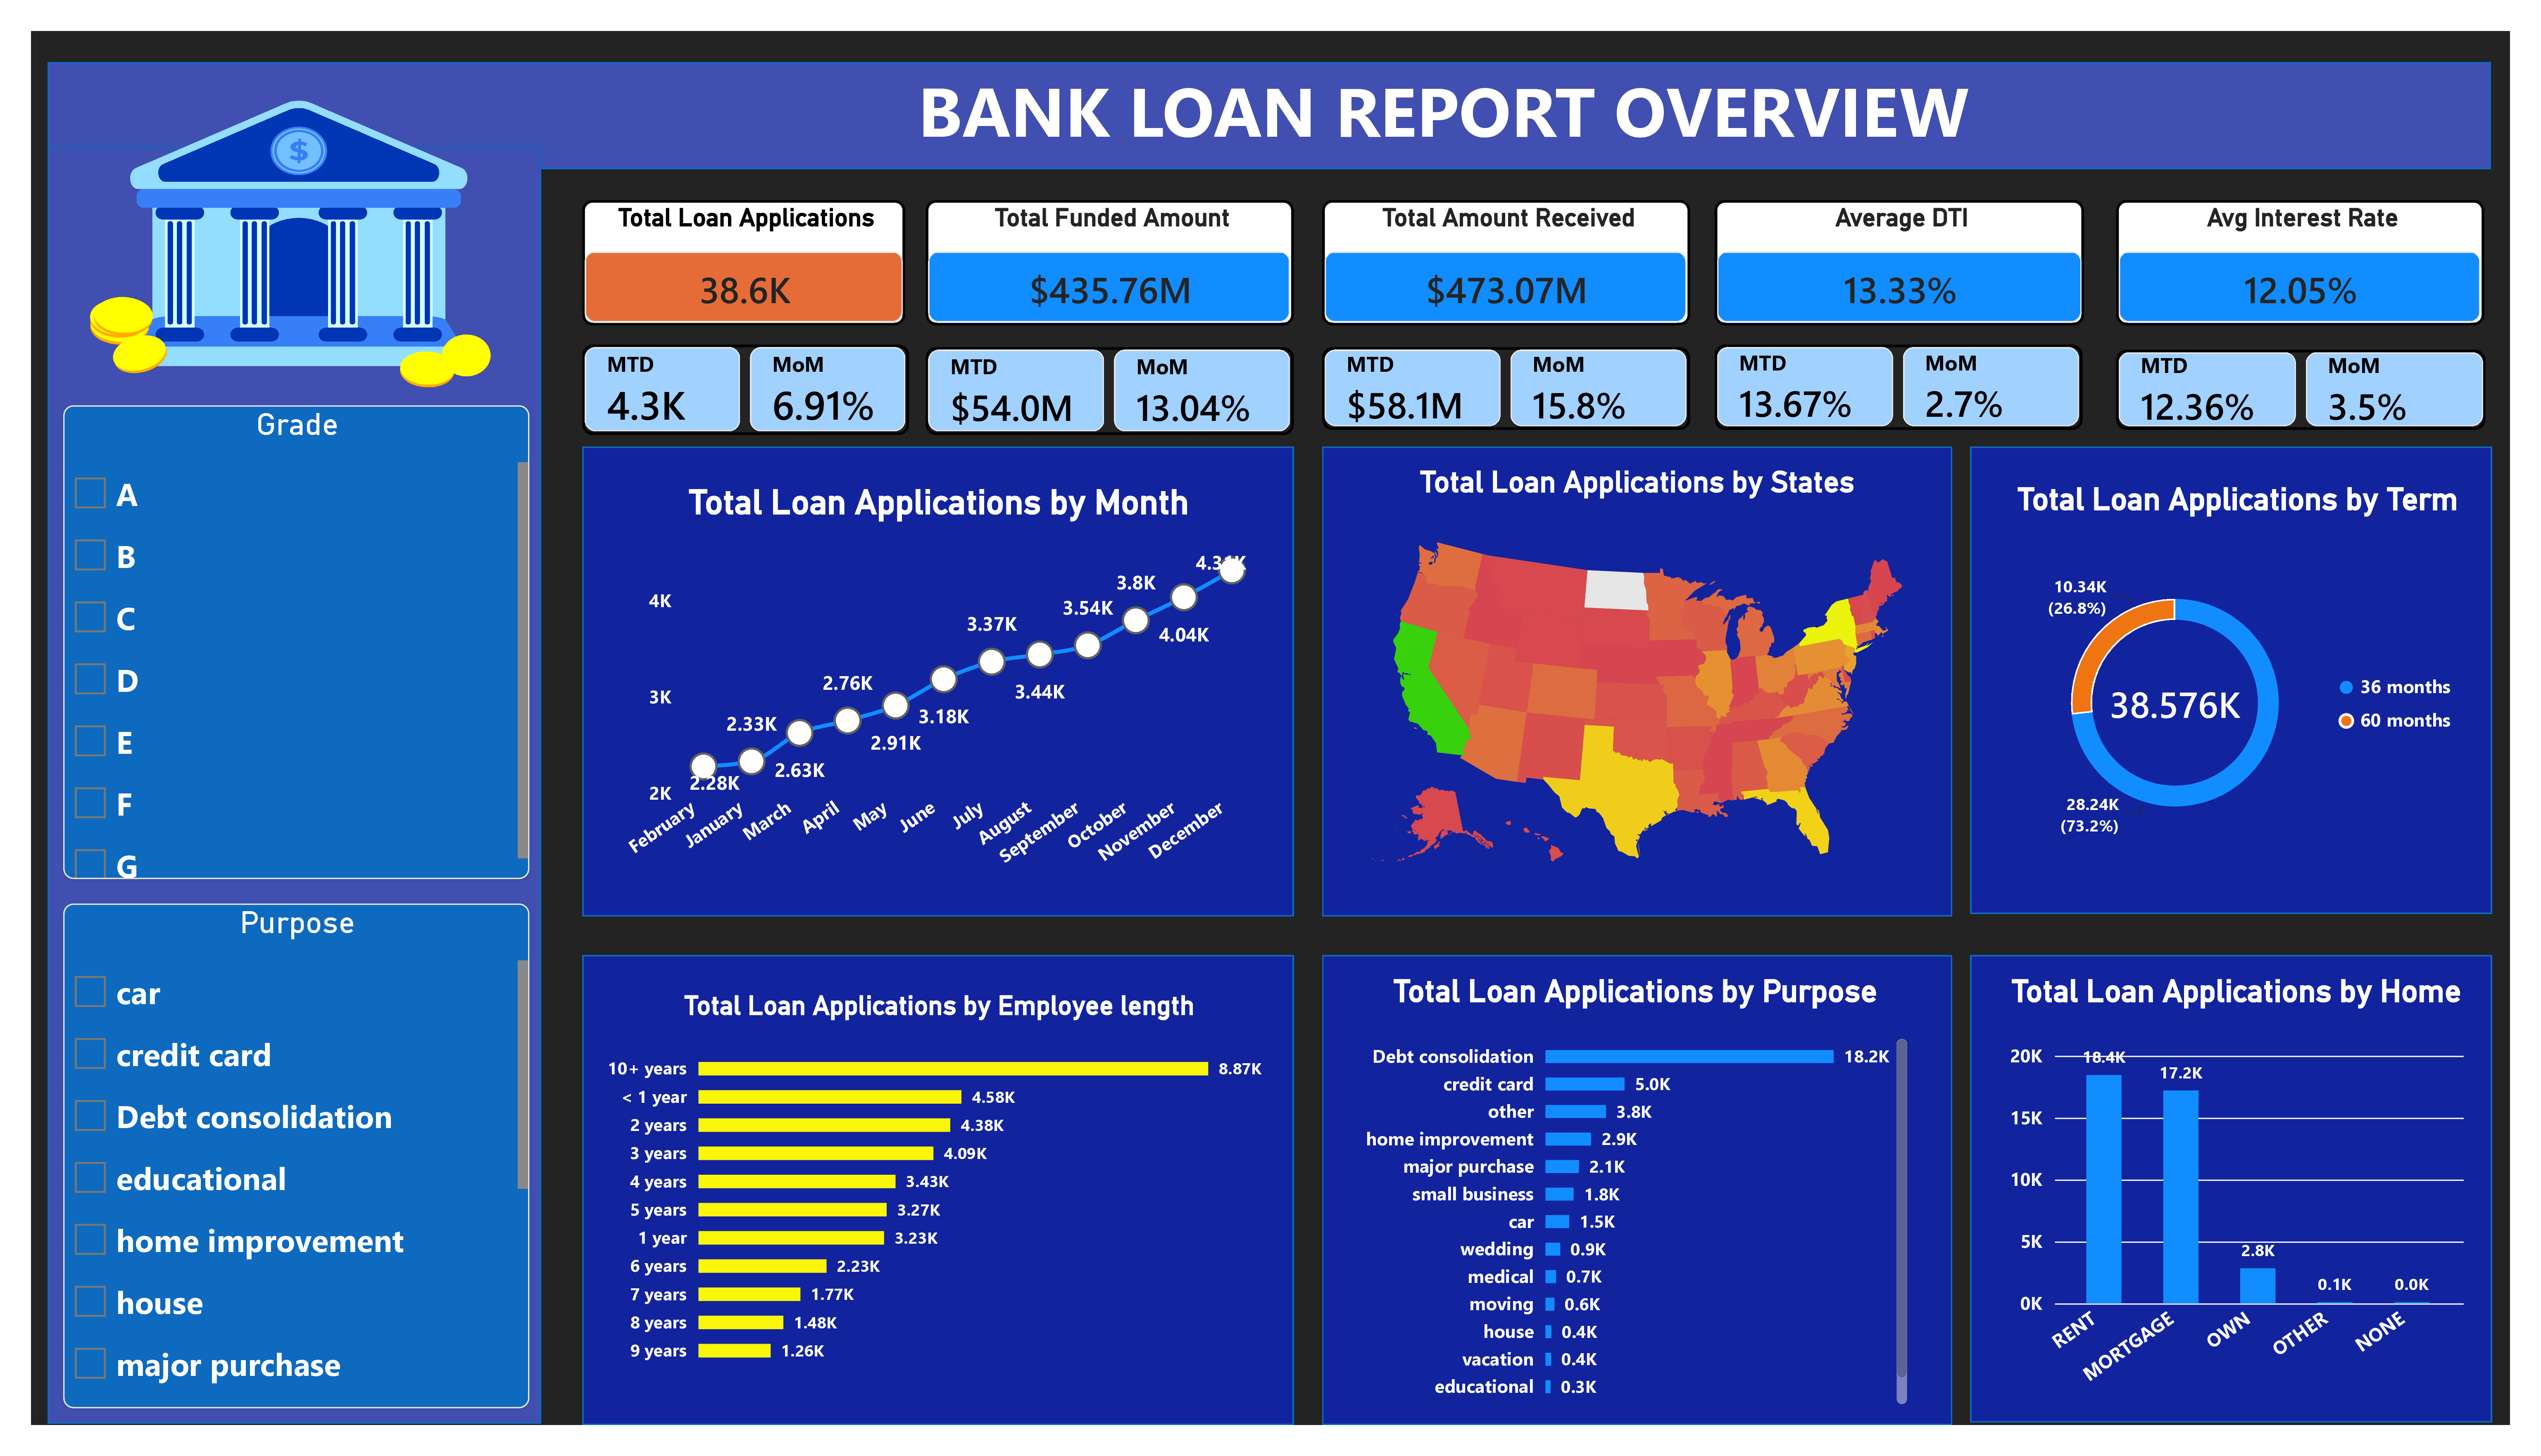

Layout of this report page (visuals, bound fields, positions):
{"tool":"powerbi","page":{"name":"Overview Dashboard","canvas":[1920,1080],"ordinal":1},"visuals":[{"type":"cardVisual","title":"Total Loan Applications","fields":{"Data":["CountNonNull(financial_loan_data.id)"]},"box":[427.2,131.1,250,97.4],"z":0,"group":"g1"},{"type":"shape","box":[1502,715.7,403.9,362.7],"z":0},{"type":"cardVisual","fields":{"Data":["financial_loan_data.MTD Loan Applications","financial_loan_data.MoM Change"]},"box":[427.2,243.5,252.9,69.3],"z":1000,"group":"g1"},{"type":"shape","box":[1000,715.7,488.2,364.7],"z":1000},{"type":"cardVisual","fields":{"Data":["financial_loan_data.MTD Funded Amount","financial_loan_data.MoM Funded Amount %"]},"box":[693.2,245.4,284.8,67.4],"z":2000,"group":"g1"},{"type":"shape","box":[427.5,715.7,551,364.7],"z":2000},{"type":"cardVisual","fields":{"Data":["financial_loan_data.MTD Received Amount","financial_loan_data.MoM Received Amount %"]},"box":[1000.5,245.4,284.8,63.7],"z":3000,"group":"g1"},{"type":"shape","box":[427.5,321.6,551,364.7],"z":3000},{"type":"cardVisual","fields":{"Data":["financial_loan_data.MTD Average DTI","financial_loan_data.MoM DTI Change"]},"box":[1304,243.5,284.8,65.6],"z":4000,"group":"g1"},{"type":"shape","box":[1000,321.6,488.2,364.7],"z":4000},{"type":"shape","box":[13.1,24.4,1892.3,82.4],"z":5000},{"type":"cardVisual","fields":{"Data":["financial_loan_data.MTD Average Interest Rate","financial_loan_data.MoM Interest Rate Change"]},"box":[1615,247.3,286.7,61.8],"z":5000,"group":"g1"},{"type":"shape","box":[12.7,90.5,381.8,988.1],"z":6000},{"type":"cardVisual","title":"Average DTI","fields":{"Data":["Avg(financial_loan_data.dti)"]},"box":[1304,131.1,286.7,97.4],"z":6000,"group":"g1"},{"type":"group","id":"g1","title":"Group 1","box":[427.2,131.1,1474.5,181.7],"z":7000},{"type":"cardVisual","title":"Total Amount Received","fields":{"Data":["Sum(financial_loan_data.total_payment)"]},"box":[1000.5,131.1,284.8,97.4],"z":7000,"group":"g1"},{"type":"cardVisual","title":"Total Funded Amount","fields":{"Data":["Sum(financial_loan_data.loan_amount)"]},"box":[693.2,131.1,284.8,97.4],"z":8000,"group":"g1"},{"type":"cardVisual","title":"Avg Interest Rate","fields":{"Data":["Avg(financial_loan_data.int_rate)"]},"box":[1615,131.1,284.8,97.4],"z":9000,"group":"g1"},{"type":"lineChart","title":"Total Loan Applications by Month ","fields":{"Category":["financial_loan_data.Month Number"],"Y":["Count(financial_loan_data.id)"]},"box":[445.1,335.3,515.7,343.1],"z":9000},{"type":"shapeMap","title":"Total Loan Applications by States","fields":{"Category":["financial_loan_data.address_state"],"Value":["Count(financial_loan_data.id)"]},"box":[1000,321.6,488.2,356.9],"z":10000},{"type":"shape","box":[1502,321.6,403.9,362.7],"z":11000},{"type":"donutChart","title":"Total Loan Applications by Term","fields":{"Y":["Count(financial_loan_data.id)"],"Category":["financial_loan_data.term"]},"box":[1517.6,335.3,382.4,329.4],"z":12000},{"type":"clusteredBarChart","title":"Total Loan Applications by Employee length","fields":{"Y":["Count(financial_loan_data.id)"],"Category":["financial_loan_data.emp_length"]},"box":[429.4,729.4,549,323.5],"z":13000},{"type":"clusteredBarChart","title":"Total Loan Applications by Purpose","fields":{"Category":["financial_loan_data.purpose"],"Y":["Count(financial_loan_data.id)"]},"box":[1015.7,715.7,452.9,364.7],"z":14000},{"type":"columnChart","title":"Total Loan Applications by Home","fields":{"Y":["Count(financial_loan_data.id)"],"Category":["financial_loan_data.home_ownership"]},"box":[1515.7,715.7,384.3,364.7],"z":15000},{"type":"textbox","box":[394.1,23.5,1400,82.4],"z":16000},{"type":"slicer","title":"Grade","fields":{"Values":["financial_loan_data.grade"]},"box":[25.5,290.2,360.8,366.7],"z":16001},{"type":"slicer","title":"Purpose","fields":{"Values":["financial_loan_data.purpose"]},"box":[25.5,676.5,360.8,390.2],"z":16002},{"type":"image","box":[46,54,310,222],"z":16003}]}

Visuals, with their boxes on the page's 1920x1080 design canvas (x1, y1, x2, y2). These are canvas units, not pixel positions in the 2541x1456 screenshot, which may show the page scaled, cropped or inside an application window:
"Total Loan Applications" cardVisual: crop(427, 131, 677, 228)
shape: crop(1502, 716, 1906, 1078)
cardVisual - financial_loan_data.MTD Loan Applications x financial_loan_data.MoM Change: crop(427, 244, 680, 313)
shape: crop(1000, 716, 1488, 1080)
cardVisual - financial_loan_data.MTD Funded Amount x financial_loan_data.MoM Funded Amount %: crop(693, 245, 978, 313)
shape: crop(428, 716, 978, 1080)
cardVisual - financial_loan_data.MTD Received Amount x financial_loan_data.MoM Received Amount %: crop(1000, 245, 1285, 309)
shape: crop(428, 322, 978, 686)
cardVisual - financial_loan_data.MTD Average DTI x financial_loan_data.MoM DTI Change: crop(1304, 244, 1589, 309)
shape: crop(1000, 322, 1488, 686)
shape: crop(13, 24, 1905, 107)
cardVisual - financial_loan_data.MTD Average Interest Rate x financial_loan_data.MoM Interest Rate Change: crop(1615, 247, 1902, 309)
shape: crop(13, 90, 394, 1079)
"Average DTI" cardVisual: crop(1304, 131, 1591, 228)
"Group 1" group: crop(427, 131, 1902, 313)
"Total Amount Received" cardVisual: crop(1000, 131, 1285, 228)
"Total Funded Amount" cardVisual: crop(693, 131, 978, 228)
"Avg Interest Rate" cardVisual: crop(1615, 131, 1900, 228)
"Total Loan Applications by Month " lineChart: crop(445, 335, 961, 678)
"Total Loan Applications by States" shapeMap: crop(1000, 322, 1488, 678)
shape: crop(1502, 322, 1906, 684)
"Total Loan Applications by Term" donutChart: crop(1518, 335, 1900, 665)
"Total Loan Applications by Employee length" clusteredBarChart: crop(429, 729, 978, 1053)
"Total Loan Applications by Purpose" clusteredBarChart: crop(1016, 716, 1469, 1080)
"Total Loan Applications by Home" columnChart: crop(1516, 716, 1900, 1080)
textbox: crop(394, 24, 1794, 106)
"Grade" slicer: crop(26, 290, 386, 657)
"Purpose" slicer: crop(26, 676, 386, 1067)
image: crop(46, 54, 356, 276)
